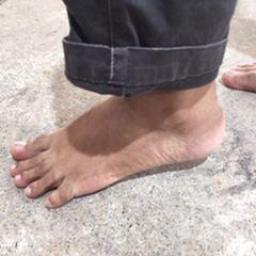Lateral View -Left Foot-: (6, 68, 228, 214)
